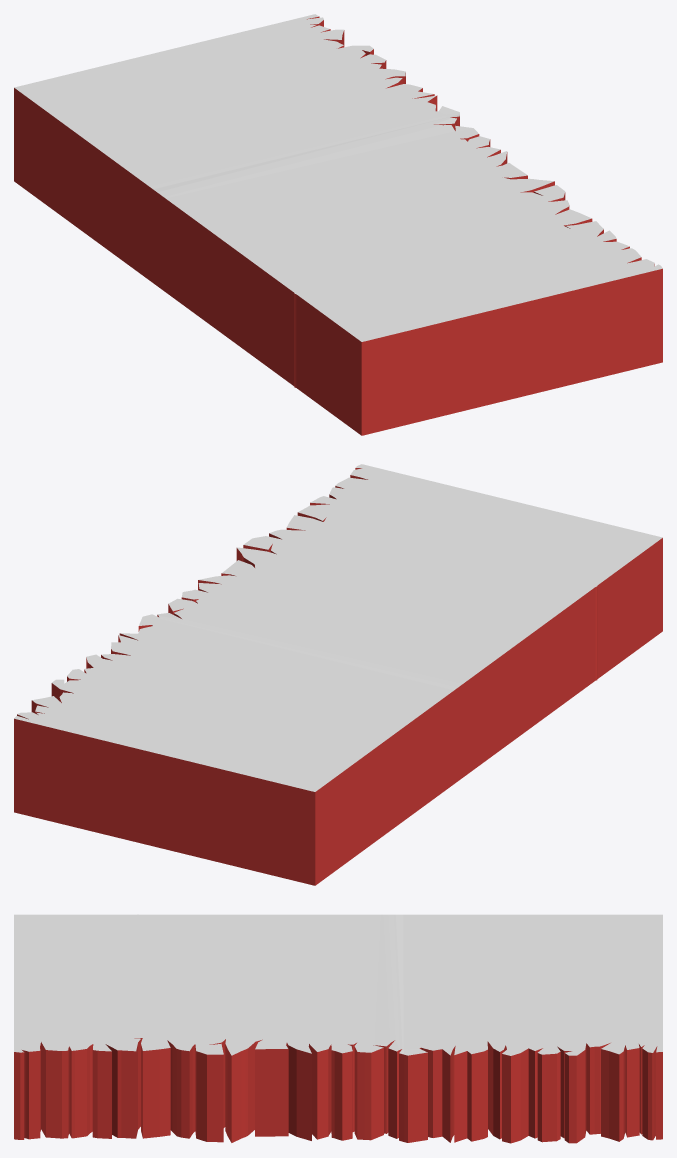
File: dene.fbx
The picture shows the model from 3 angles, top to bottom: view 1: azimuth 30°, elevation 25°; view 2: azimuth 150°, elevation 25°; view 3: azimuth 270°, elevation 25°; orthographic projection. The views are drawn at different scales.
Visible parts, largest first — view 1: Plane; view 2: Plane; view 3: Plane.
Boxes of the visible parts, x1,y1,x2,y2 form: Plane: (14,14,662,435); Plane: (14,464,662,885); Plane: (14,914,662,1143).
Size of the model in its own units: 1446 by 419 by 2800.
